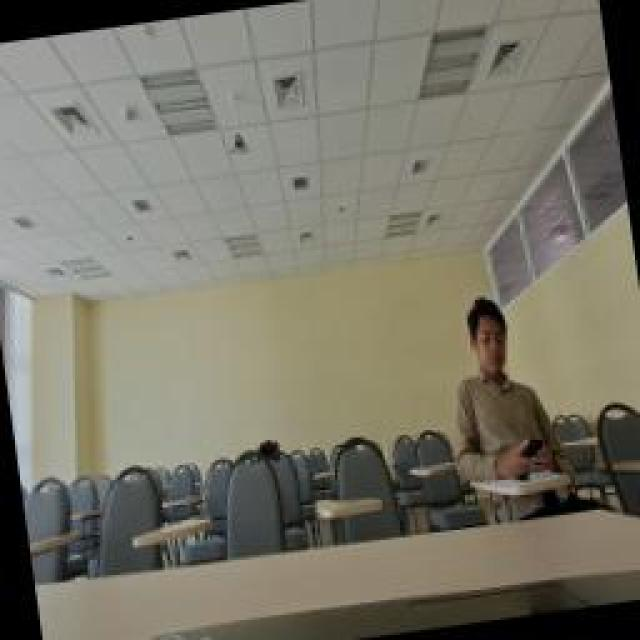phone: (432, 285, 570, 490)
